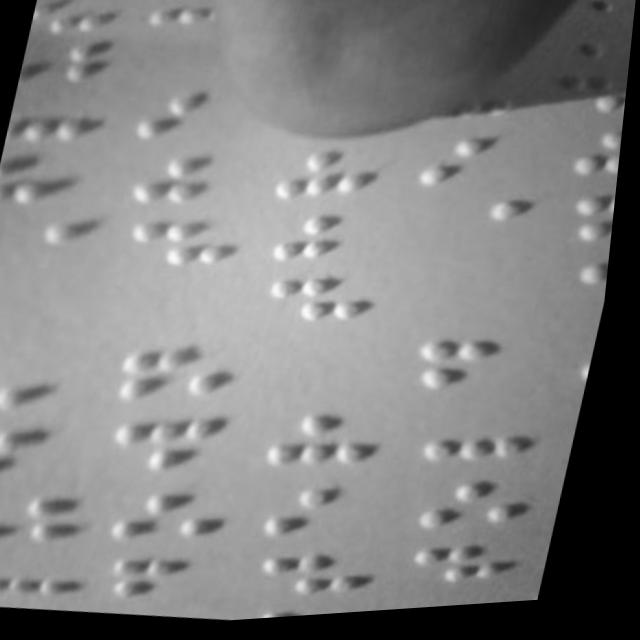braiile: (262, 393, 400, 479), (257, 536, 403, 616), (410, 326, 549, 410), (122, 142, 262, 224), (108, 398, 243, 483), (418, 397, 553, 482), (114, 338, 258, 417), (131, 79, 271, 159), (416, 471, 554, 552), (266, 473, 404, 551), (261, 204, 399, 282), (267, 134, 394, 217), (414, 533, 548, 610), (412, 127, 544, 205), (117, 208, 253, 283), (0, 411, 109, 498), (110, 485, 239, 557), (261, 264, 388, 335), (0, 463, 94, 552), (0, 337, 97, 420), (111, 545, 227, 614), (0, 524, 95, 608), (0, 148, 96, 219), (7, 91, 105, 152), (18, 35, 109, 98), (29, 0, 115, 44)
